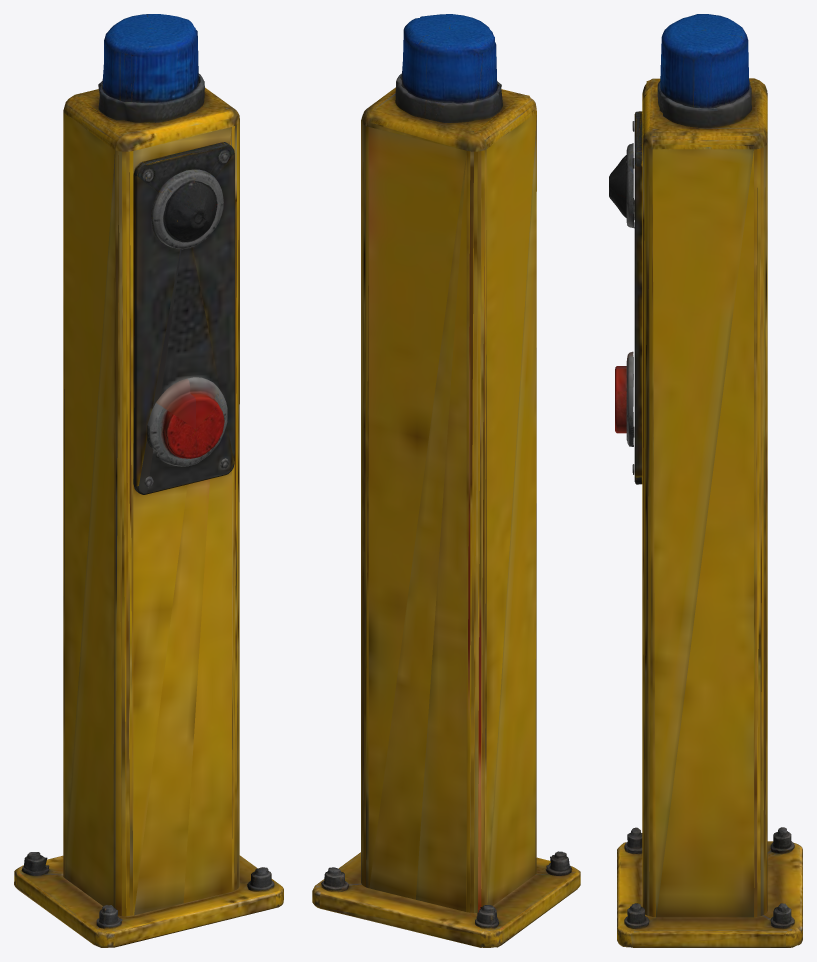
File: p7-emergency-call-point-t25.glb
3 views of the same model, side by side, from view 1: azimuth 30°, elevation 25°; view 2: azimuth 150°, elevation 25°; view 3: azimuth 270°, elevation 25° (orthographic).
Visible parts, largest first — view 1: p7-emergency-call-point-t25; view 2: p7-emergency-call-point-t25; view 3: p7-emergency-call-point-t25.
Boxes of the visible parts, x1,y1,x2,y2 form: p7-emergency-call-point-t25: (14,14,283,947); p7-emergency-call-point-t25: (312,14,580,947); p7-emergency-call-point-t25: (609,14,802,947).
Size of the model in its own units: 0.363 by 1.6 by 0.322.
1 material, 1 textured.
